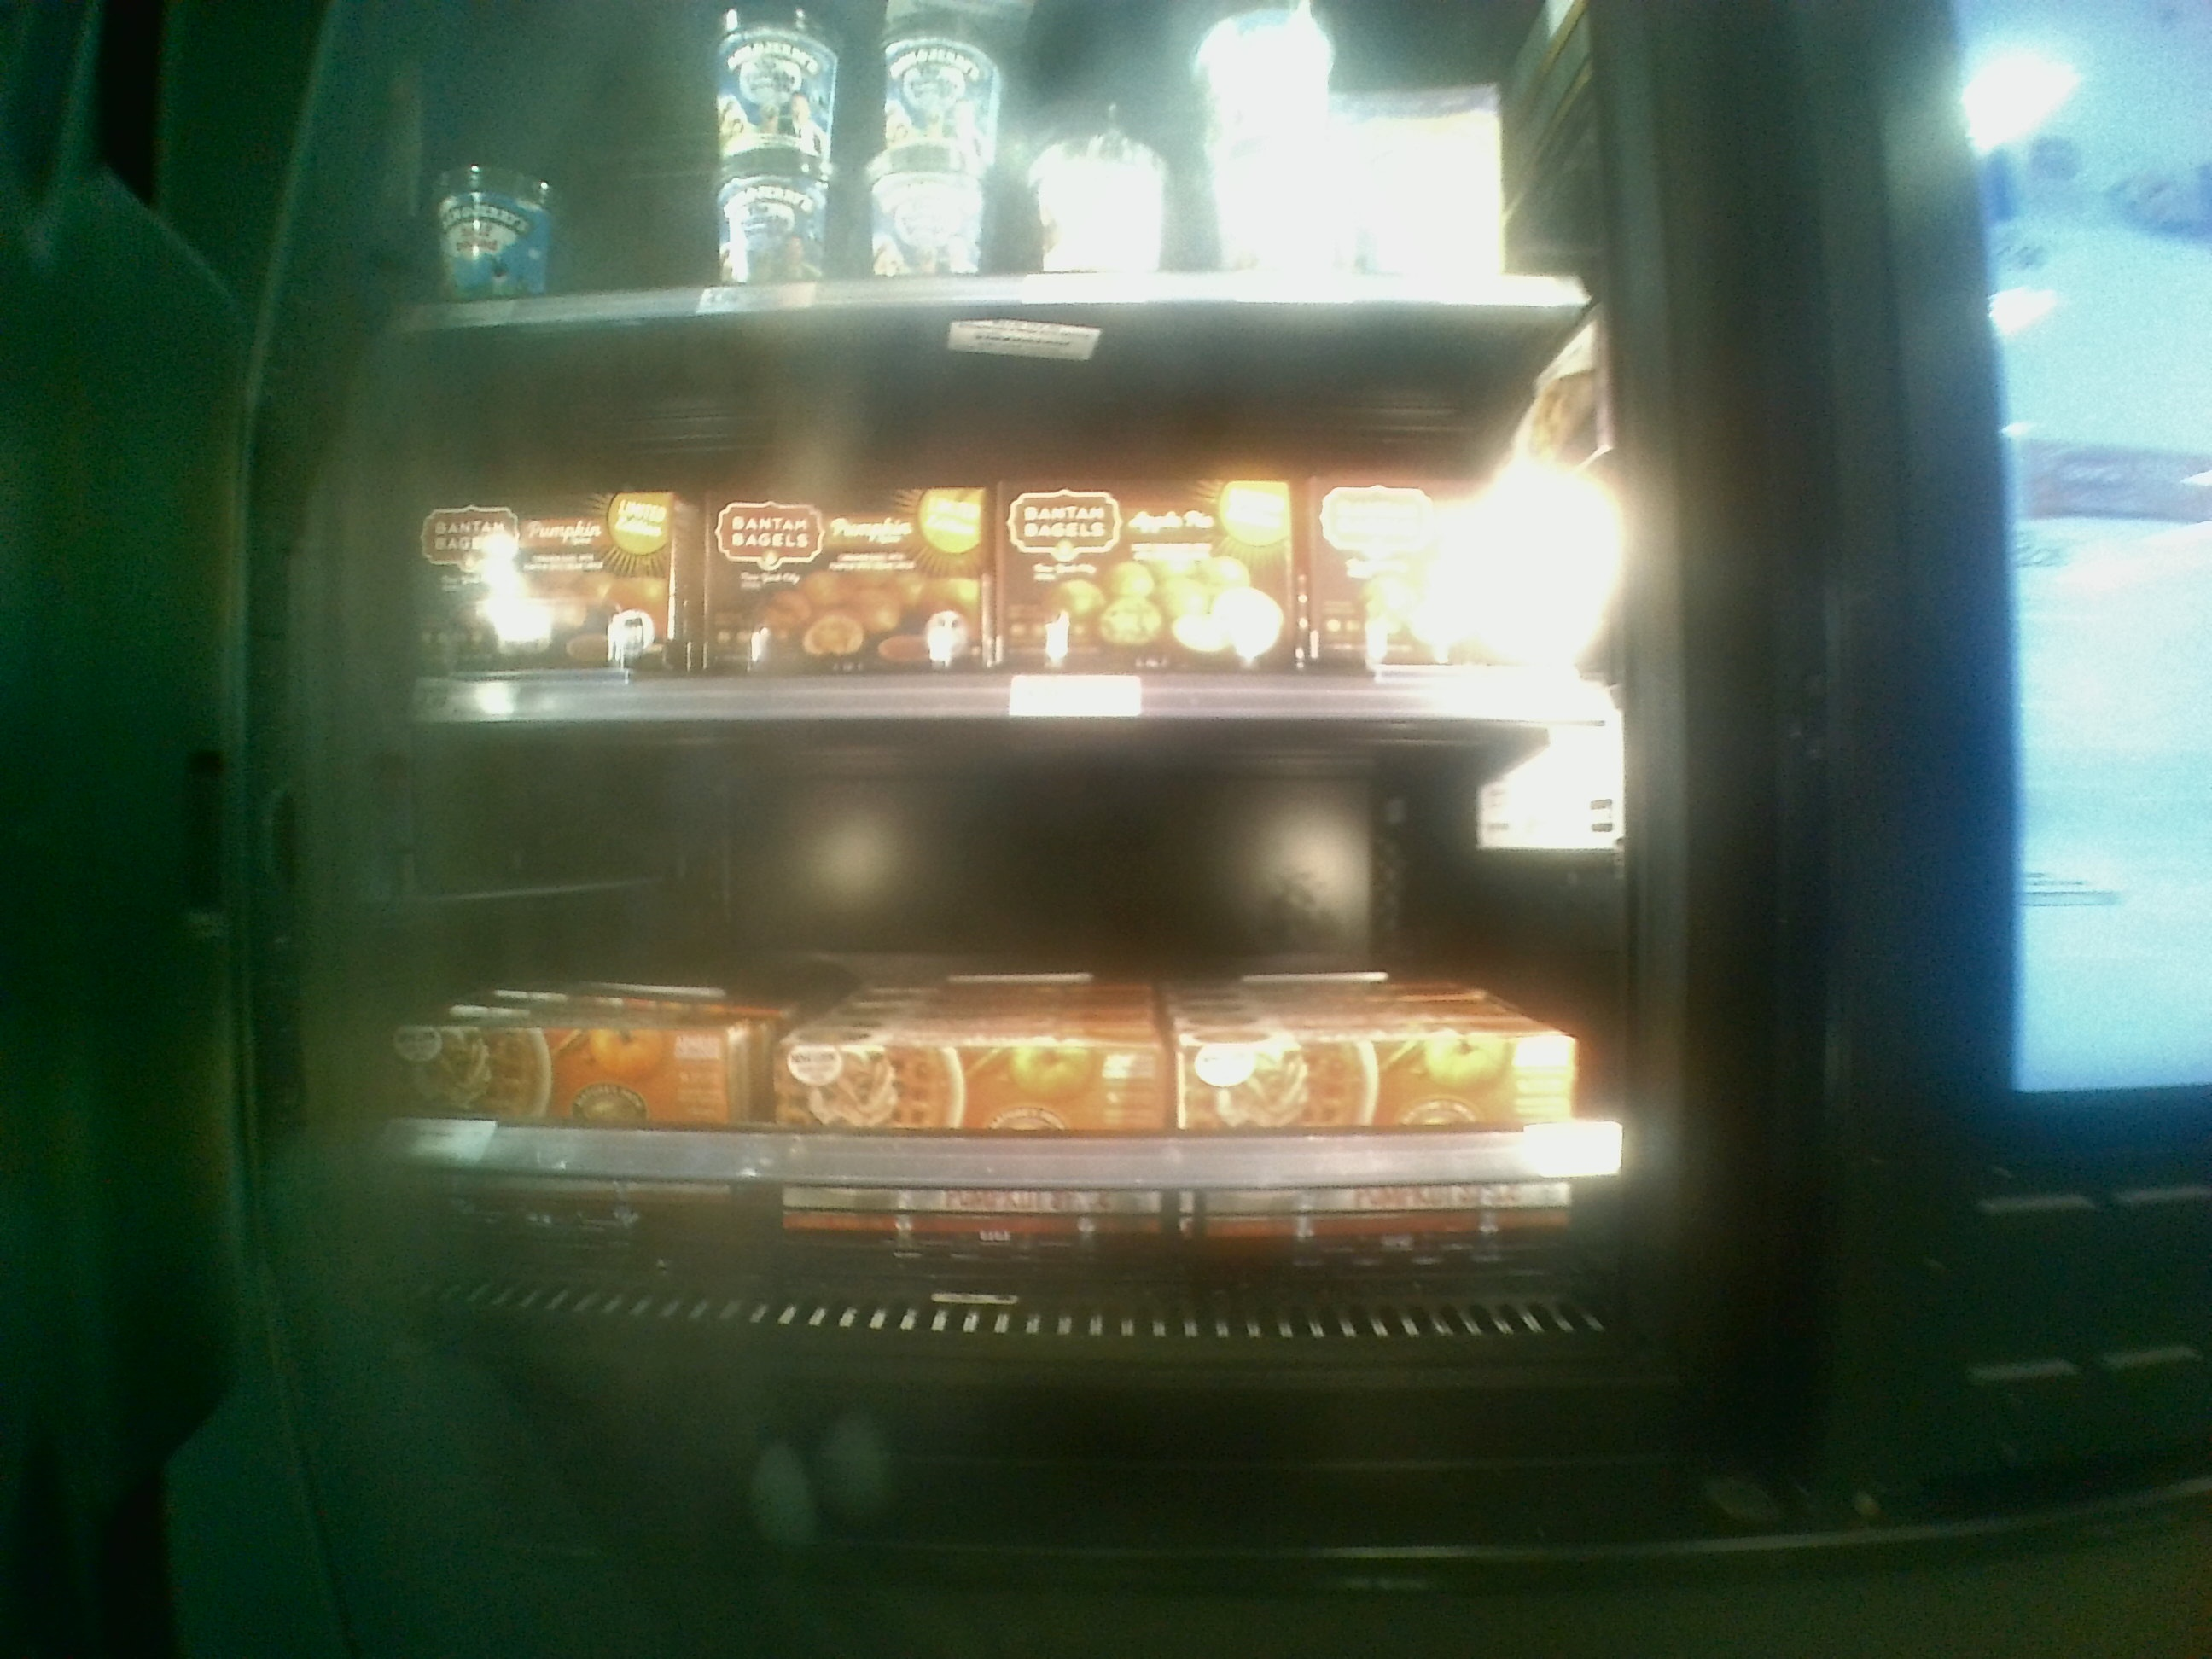shelf: (394, 688, 1630, 1171), (413, 315, 1630, 706)
